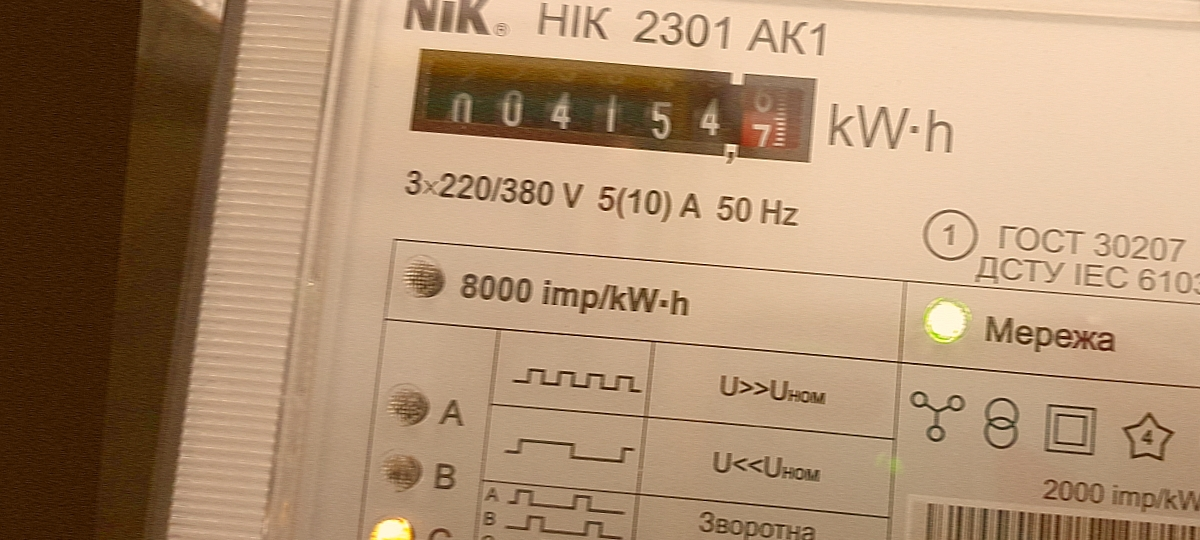0: (499, 85, 525, 128), (449, 86, 474, 123)
1: (603, 91, 620, 133)
4: (547, 87, 574, 130), (698, 92, 722, 137)
5: (647, 94, 675, 140)
6: (751, 82, 776, 113)
7: (748, 118, 772, 148)
screen: (393, 27, 835, 180)
